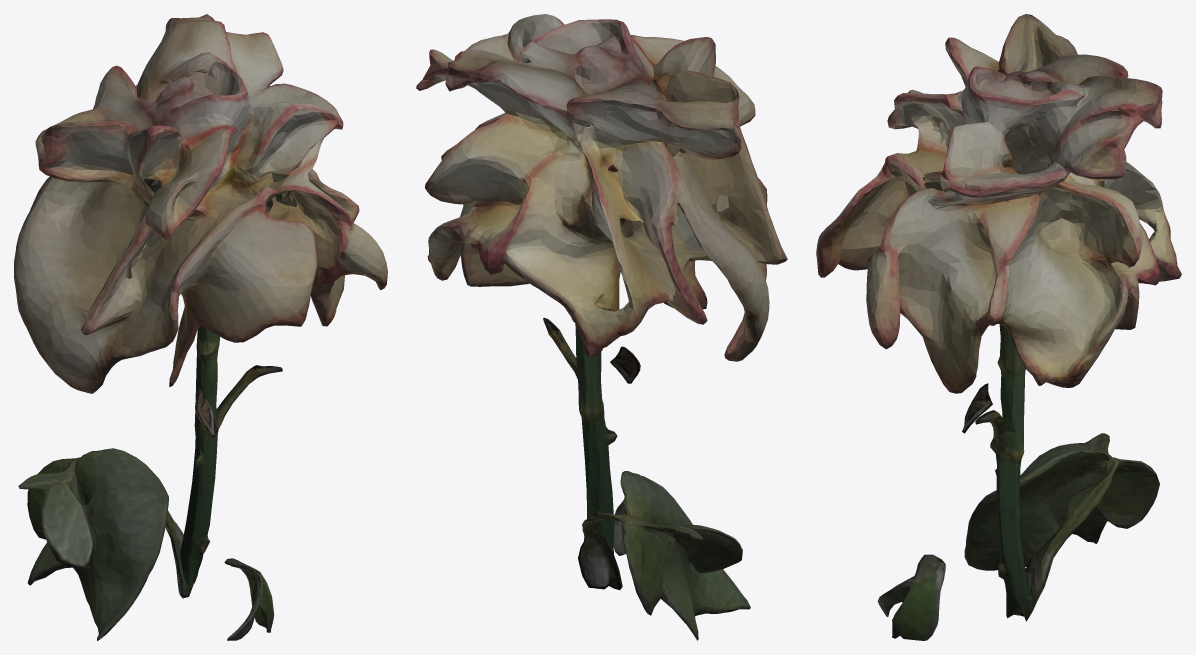
3 renders of one model, left to right at view 1: azimuth 30°, elevation 25°; view 2: azimuth 150°, elevation 25°; view 3: azimuth 270°, elevation 25°, orthographic. The views are drawn at different scales.
Visible parts, largest first — view 1: world; view 2: world; view 3: world.
Boxes of the visible parts, box(x1,y1,x2,y2) form: world: box(14, 14, 387, 640); world: box(416, 14, 787, 640); world: box(816, 14, 1181, 640).
Size of the model in its own units: 0.6091 by 0.9708 by 0.5654.
1 material, 1 textured.
